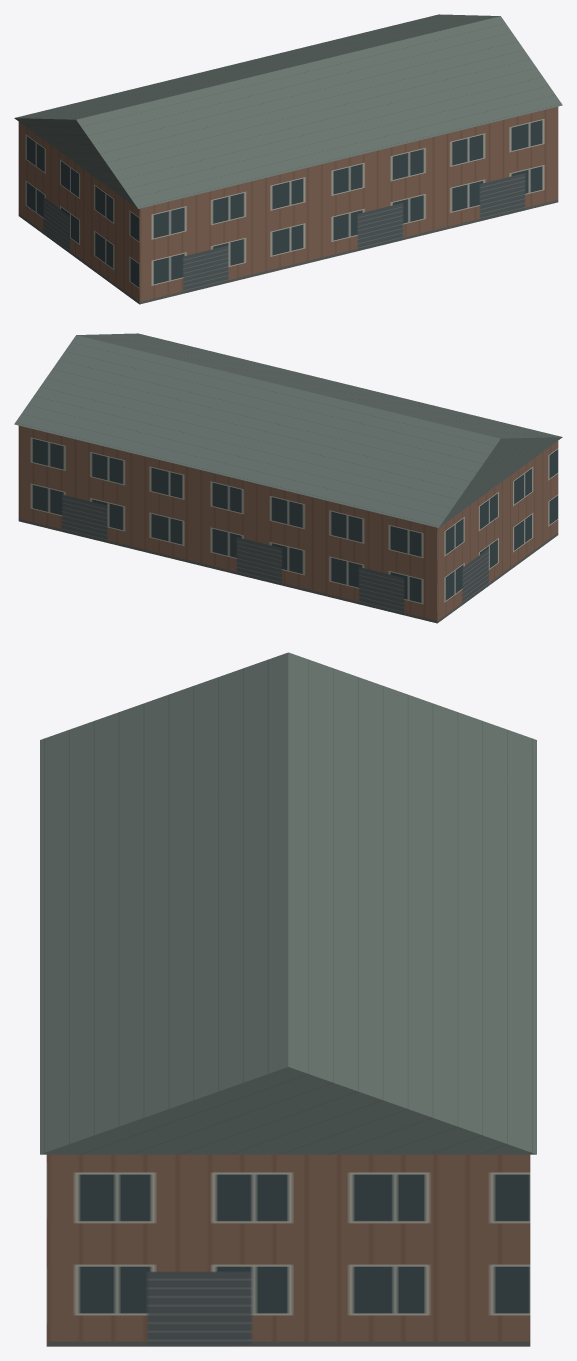
The model's file is kyiv_workshop_01.obj.
3 renders of one model, top to bottom at view 1: azimuth 30°, elevation 25°; view 2: azimuth 150°, elevation 25°; view 3: azimuth 270°, elevation 25°, orthographic. The views are drawn at different scales.
Parts seen in each view (by area): view 1: kyiv_workshop_01; view 2: kyiv_workshop_01; view 3: kyiv_workshop_01.
Boxes of the visible parts, left/top/right/bottom form: kyiv_workshop_01: left=14, top=14, right=562, bottom=304; kyiv_workshop_01: left=14, top=333, right=562, bottom=623; kyiv_workshop_01: left=40, top=652, right=536, bottom=1346.
Bounding box in the file's own units: 36.5 × 11.6 × 18.5.
1 material, 1 textured.
